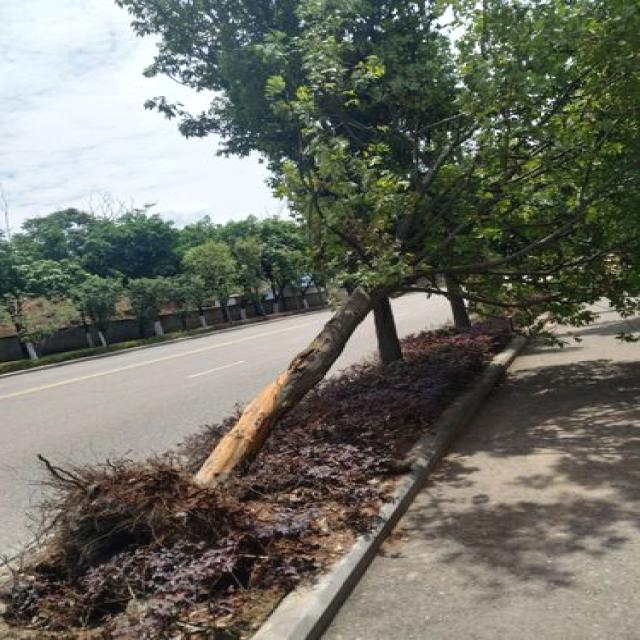fallen_object: (66, 113, 618, 537)
